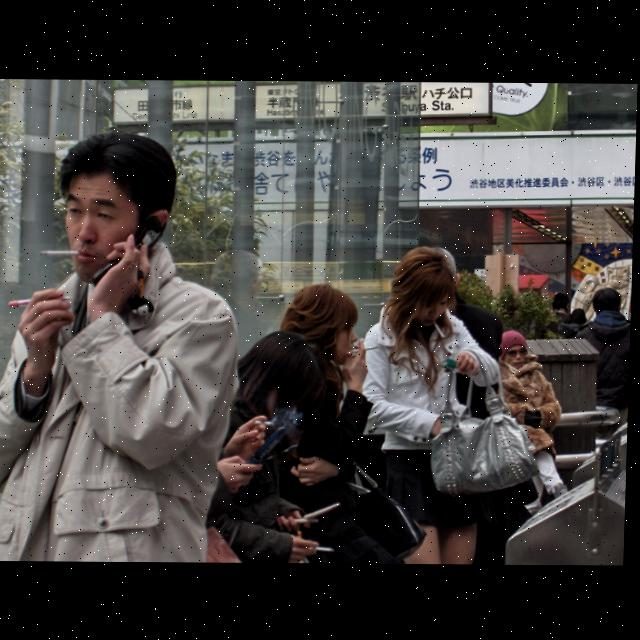cigarette: (43, 250, 82, 257), (433, 320, 448, 338), (352, 346, 379, 352), (311, 547, 337, 551), (257, 420, 276, 425)
